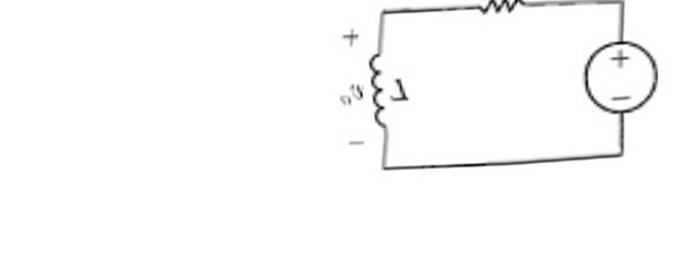Battery: (562, 30, 676, 131)
